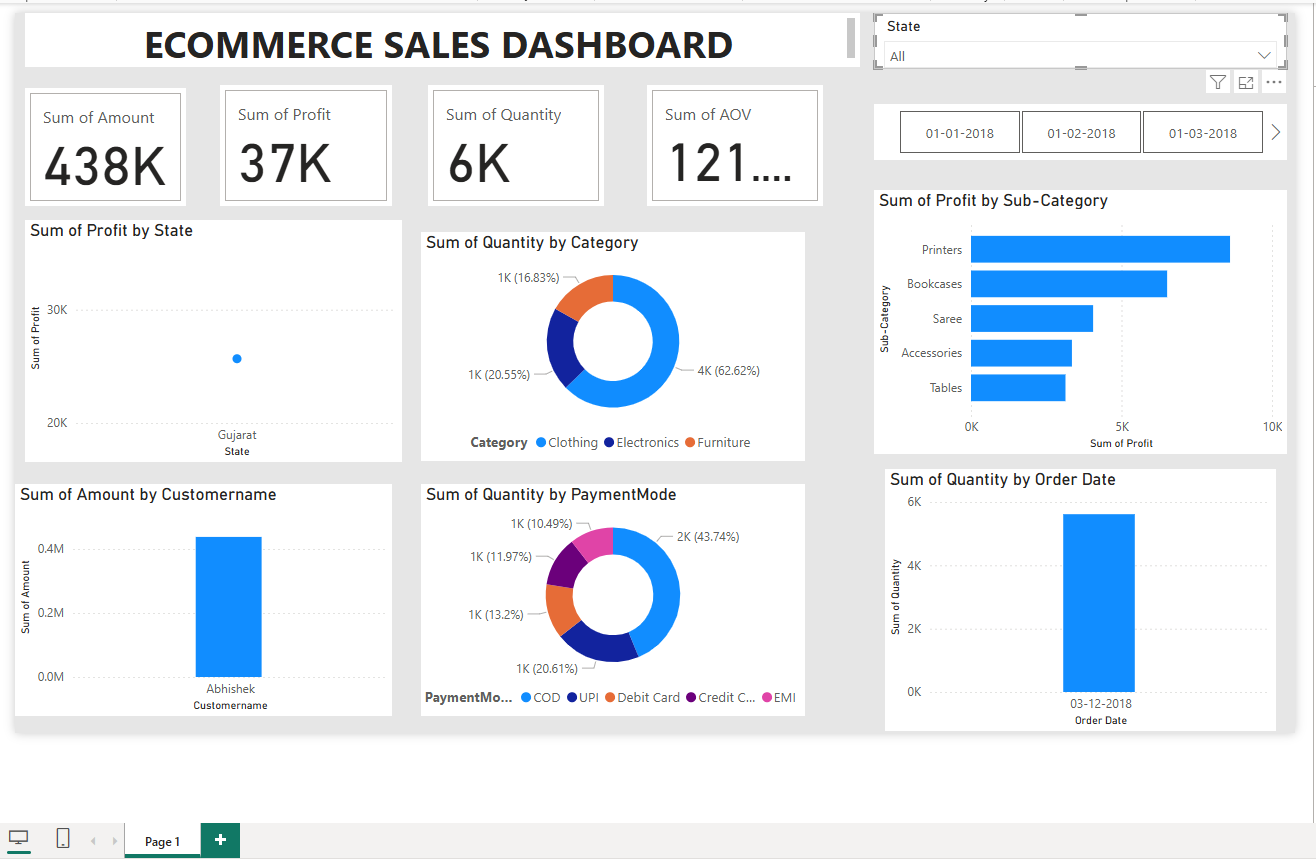

The page's visual inventory and layout, read from the dashboard file:
{"tool":"powerbi","page":{"name":"Page 1","canvas":[1280,720],"ordinal":0},"visuals":[{"type":"textbox","box":[10,0,835,54],"z":0},{"type":"columnChart","fields":{"Category":["Orders.Order Date"],"Y":["Details.Quantity"]},"box":[870,456,391,262],"z":1000},{"type":"barChart","fields":{"Category":["Details.Sub-Category"],"Y":["Details.Profit"]},"box":[859,177,413,264],"z":2000},{"type":"donutChart","fields":{"Category":["Details.Category"],"Y":["Details.Quantity"]},"box":[406,219,384,229],"z":3000},{"type":"donutChart","fields":{"Y":["Details.Quantity"],"Category":["Details.PaymentMode"]},"box":[406,471,384,232],"z":3001},{"type":"cardVisual","fields":{"Data":["Details.Amount"]},"box":[10,75,161,118],"z":3002},{"type":"cardVisual","fields":{"Data":["Details.Profit"]},"box":[205,72,172,121],"z":3003},{"type":"cardVisual","fields":{"Data":["Details.Quantity"]},"box":[413,72,176,121],"z":3004},{"type":"cardVisual","fields":{"Data":["Details.AOV"]},"box":[632,72,176,121],"z":3005},{"type":"lineChart","fields":{"Category":["Orders.State"],"Y":["Details.Profit"]},"box":[10,207,377,242],"z":3006},{"type":"columnChart","fields":{"Category":["Orders.Customername"],"Y":["Details.Amount"]},"box":[0,471,377,232],"z":3007},{"type":"slicer","fields":{"Values":["Orders.State"]},"box":[859,0,413,56],"z":3008},{"type":"slicer","fields":{"Values":["Orders.Order Date"]},"box":[859,91,413,56],"z":3009}]}

Visuals, with their boxes on the page's 1280x720 design canvas (x1, y1, x2, y2). These are canvas units, not pixel positions in the 1316x859 screenshot, which may show the page scaled, cropped or inside an application window:
textbox: box(10, 0, 845, 54)
columnChart - Orders.Order Date x Details.Quantity: box(870, 456, 1261, 718)
barChart - Details.Sub-Category x Details.Profit: box(859, 177, 1272, 441)
donutChart - Details.Category x Details.Quantity: box(406, 219, 790, 448)
donutChart - Details.Quantity x Details.PaymentMode: box(406, 471, 790, 703)
cardVisual - Details.Amount: box(10, 75, 171, 193)
cardVisual - Details.Profit: box(205, 72, 377, 193)
cardVisual - Details.Quantity: box(413, 72, 589, 193)
cardVisual - Details.AOV: box(632, 72, 808, 193)
lineChart - Orders.State x Details.Profit: box(10, 207, 387, 449)
columnChart - Orders.Customername x Details.Amount: box(0, 471, 377, 703)
slicer - Orders.State: box(859, 0, 1272, 56)
slicer - Orders.Order Date: box(859, 91, 1272, 147)
